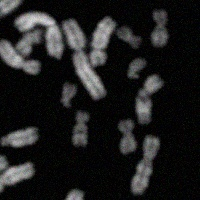chromosome: (63, 18, 105, 100), (13, 12, 62, 58), (130, 133, 160, 196), (0, 38, 42, 80), (135, 75, 163, 127), (90, 16, 115, 67), (0, 161, 33, 196), (0, 125, 40, 150), (152, 7, 172, 52), (17, 26, 45, 57), (71, 108, 91, 147), (119, 118, 137, 156), (0, 0, 21, 32), (57, 84, 79, 110), (119, 24, 141, 49), (128, 55, 144, 80), (0, 154, 7, 200), (0, 0, 4, 3)
